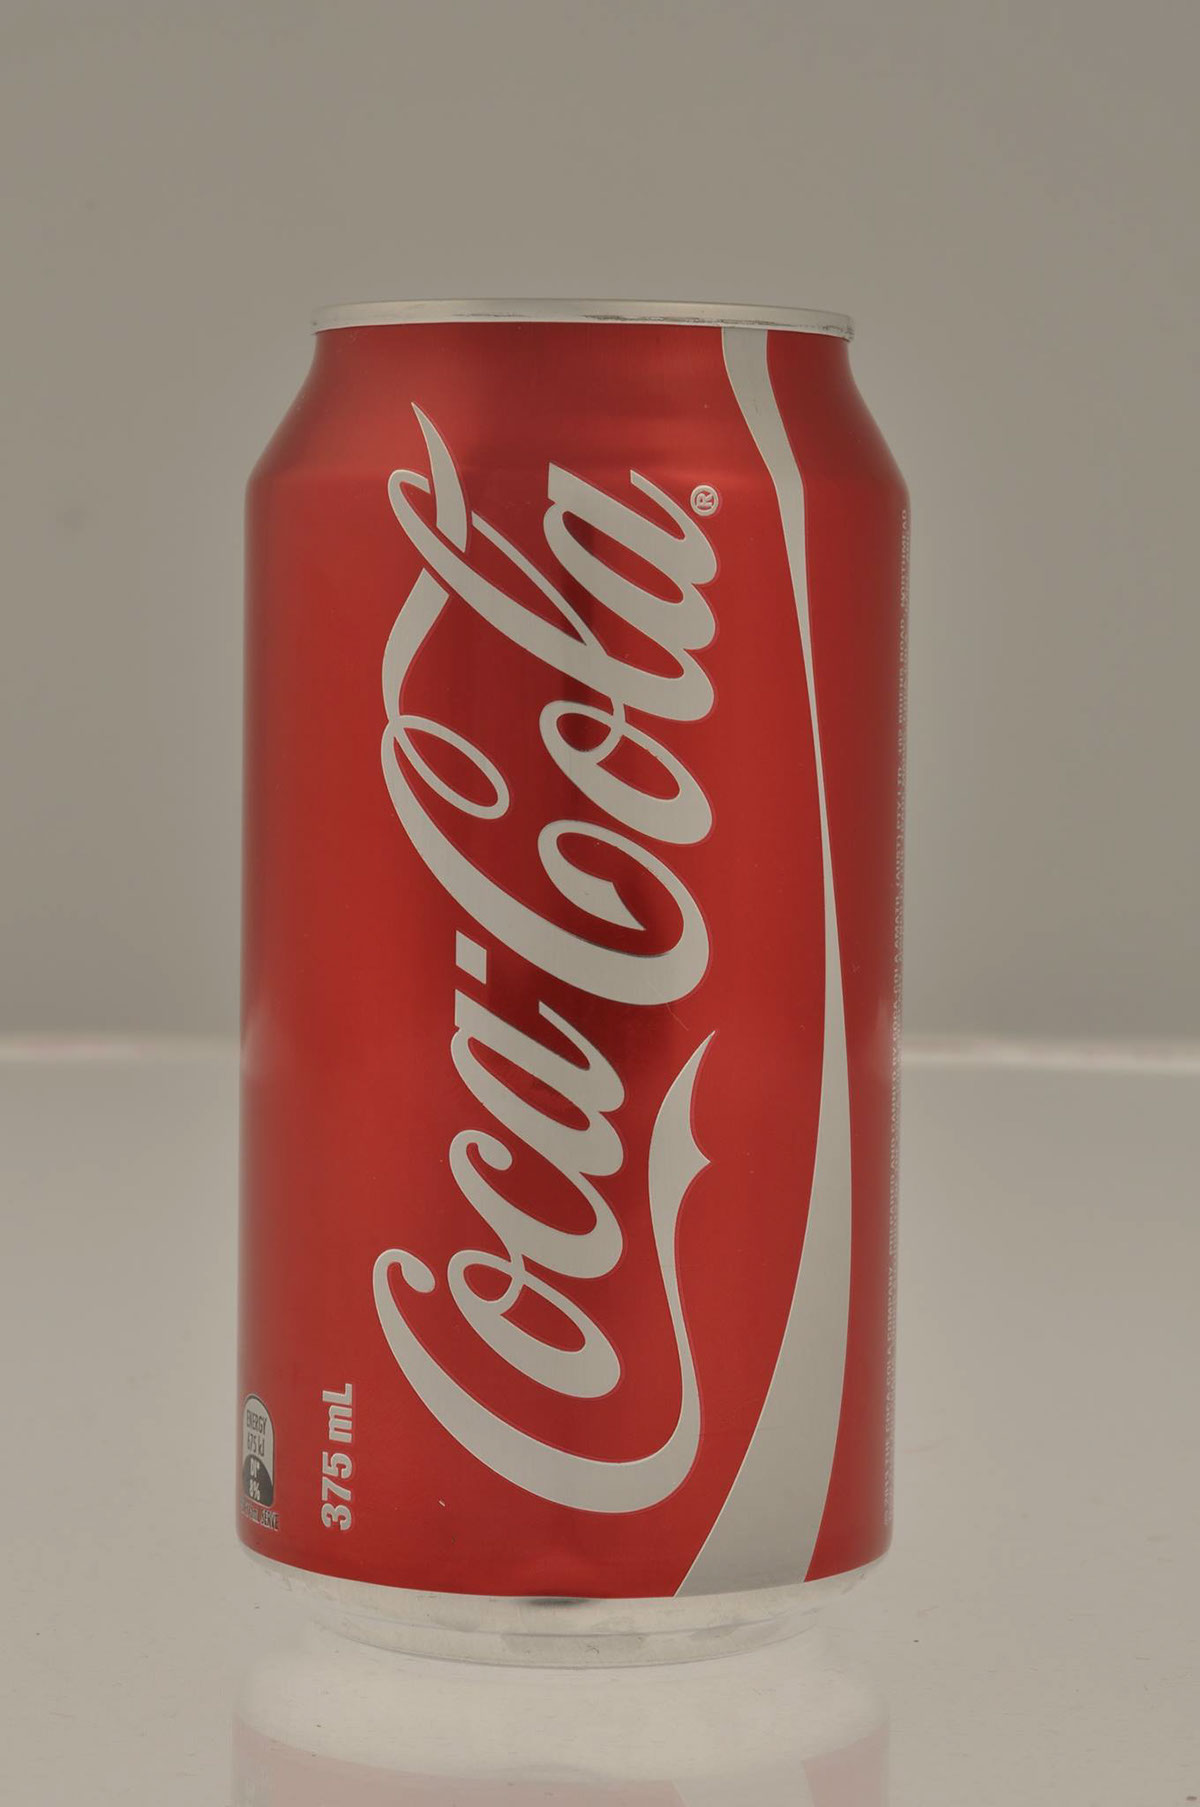coke: (360, 383, 775, 1551)
